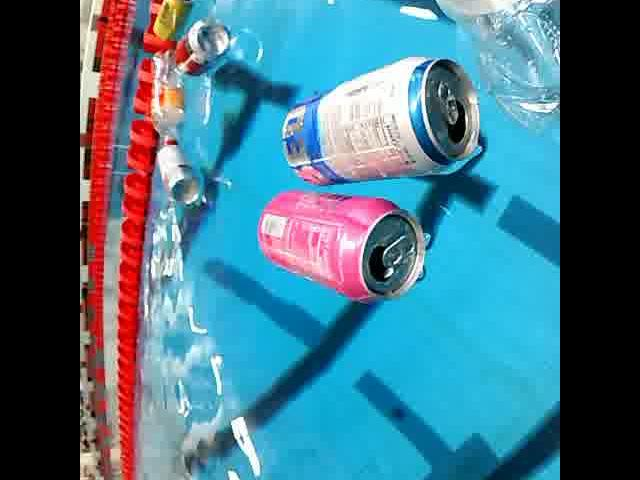Bottle: (384, 0, 560, 139), (148, 44, 190, 156)
Can: (277, 56, 487, 188), (255, 184, 429, 304), (172, 13, 232, 80), (157, 140, 203, 207), (147, 0, 201, 44)
